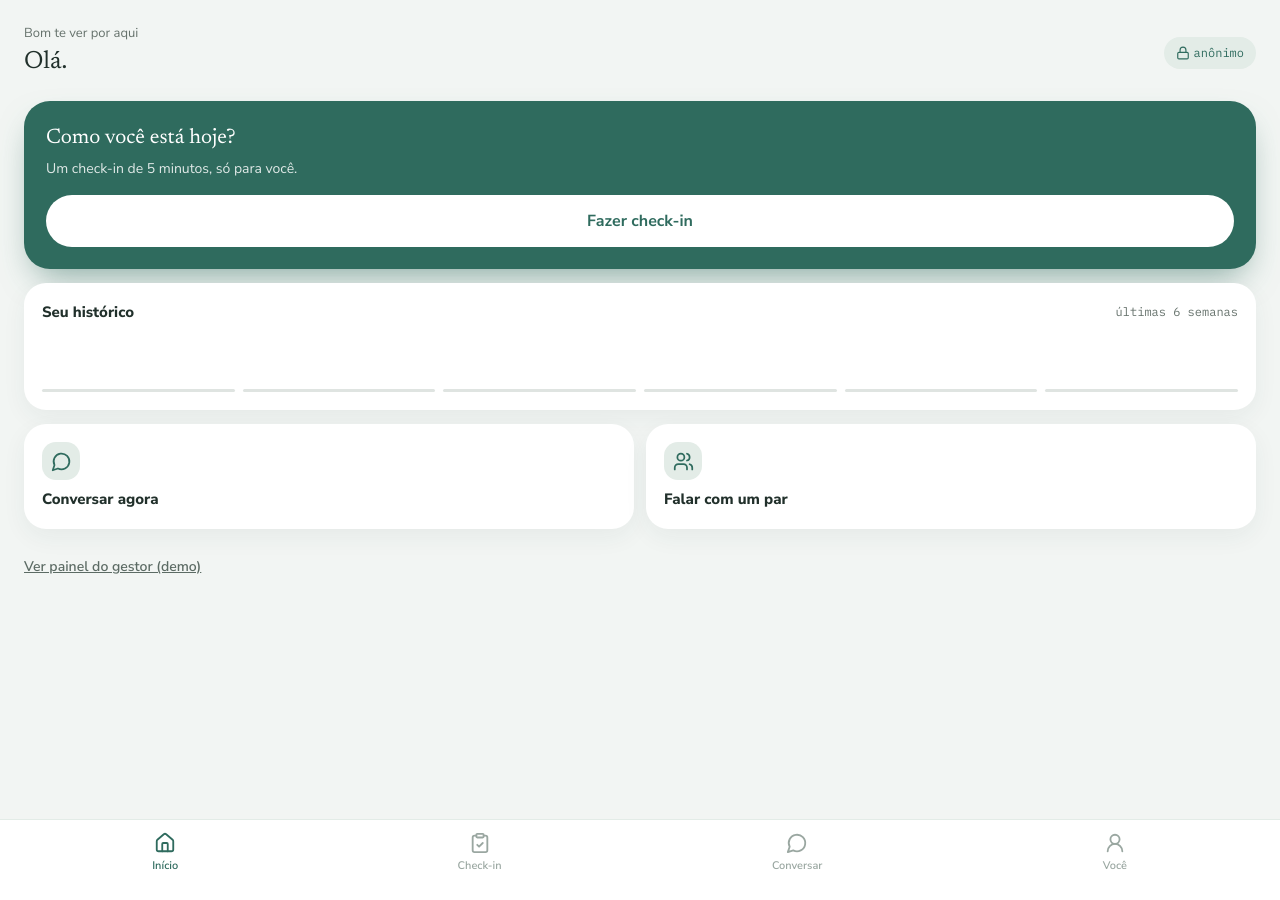
it: onboarding router flow › Home's quick action reaches Peers
Click the button "Falar com um par" at (683, 461), box [646,424,1256,529]
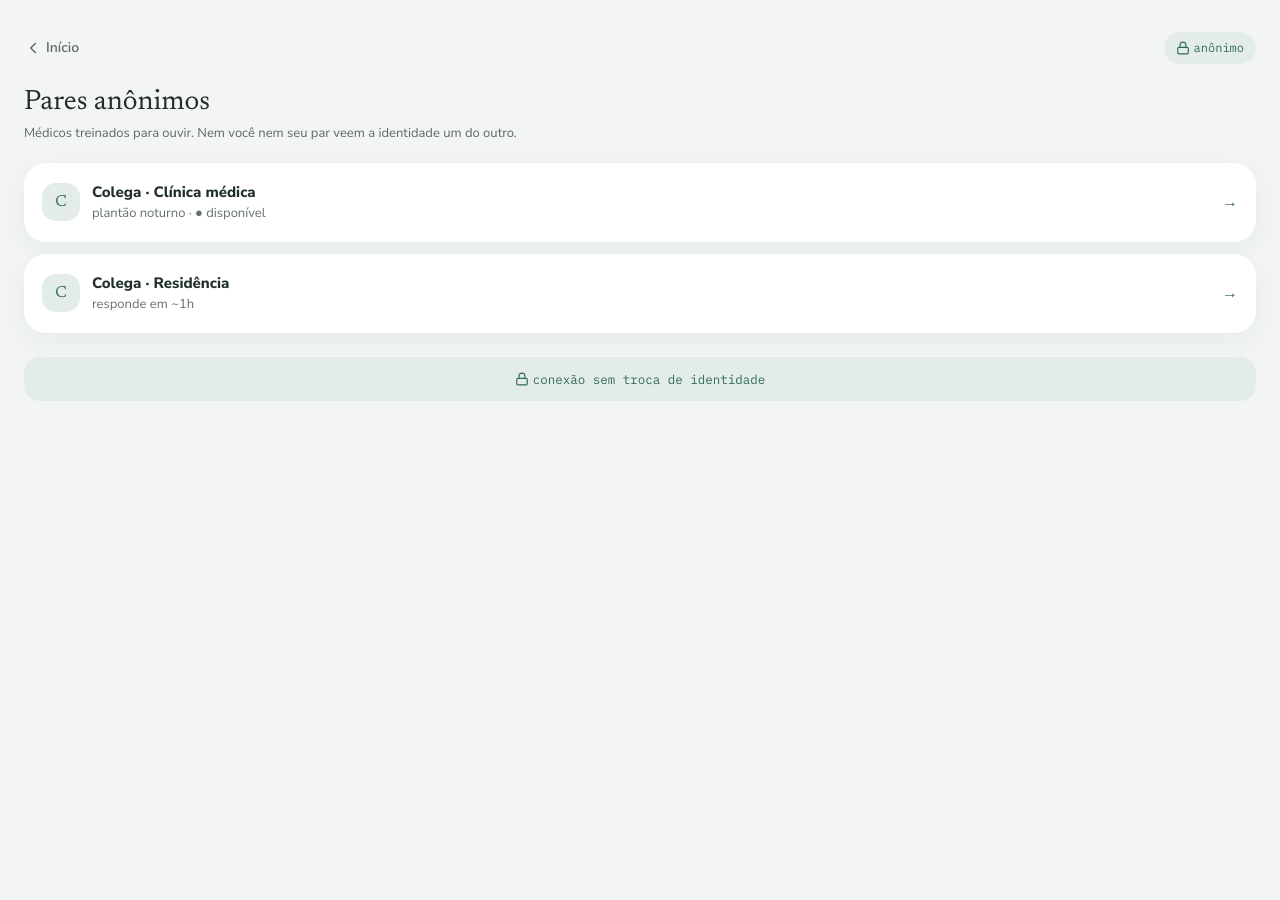
Now the heading "Pares anônimos" is shown, box [24,88,210,116]
